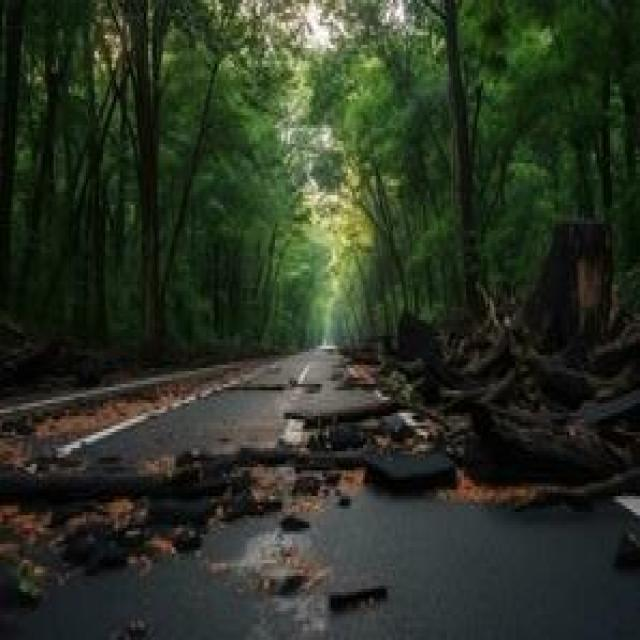road collapse: (30, 175, 640, 634)
